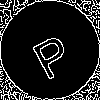P: (25, 25, 76, 81)
